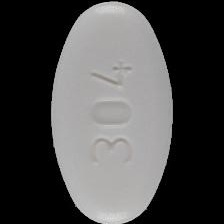69189-0305: (0, 0, 224, 224)
